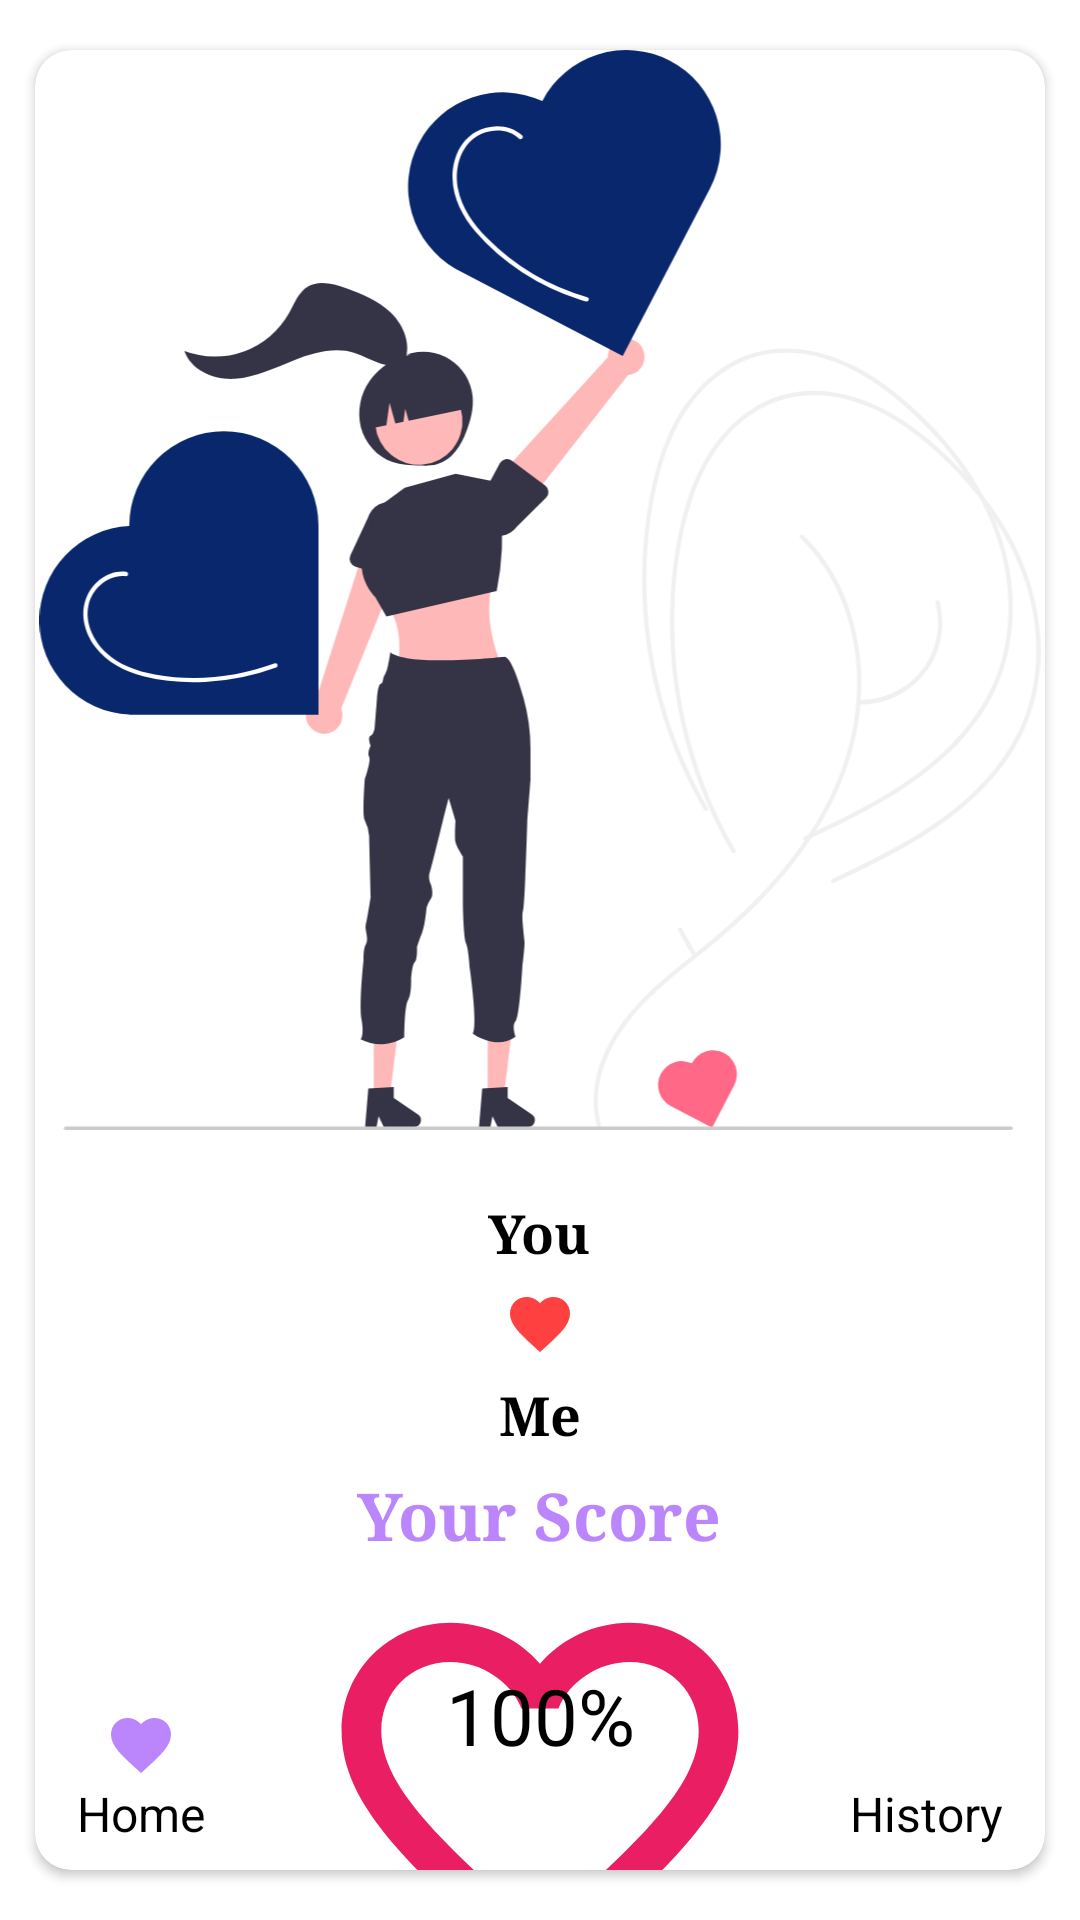

Where to tap for icons on this 1080w x 1920h app screen, as (x,y):
heart: (540,1324)
